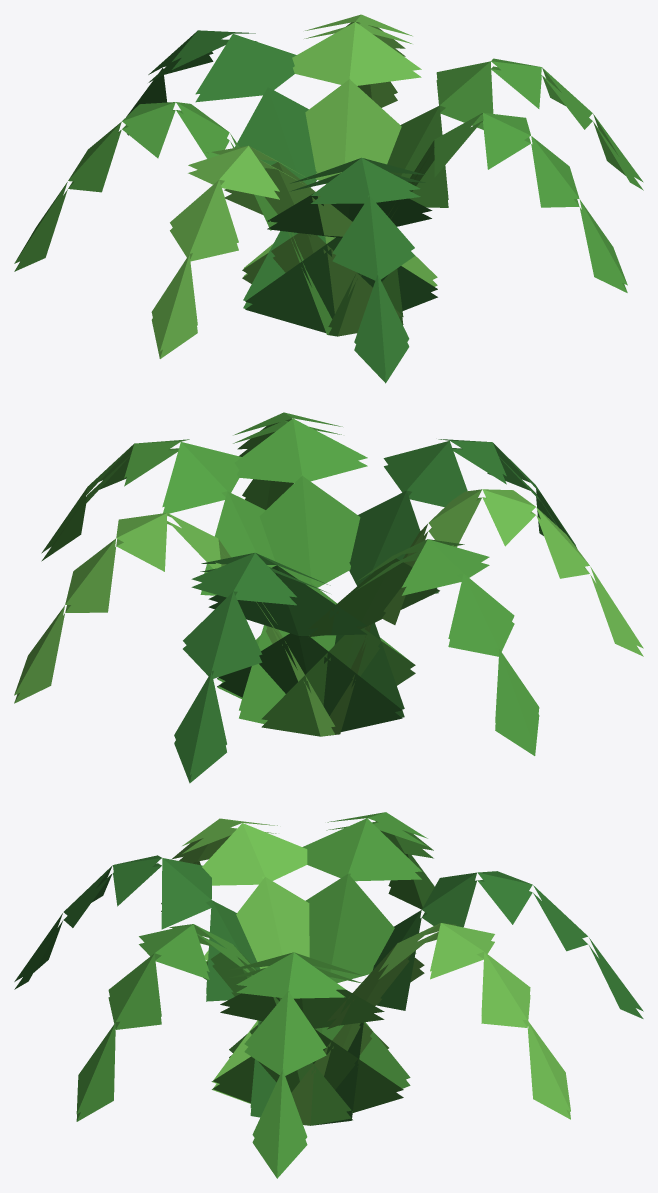
The model's file is fern.glb.
The picture shows the model from 3 angles, top to bottom: view 1: azimuth 30°, elevation 25°; view 2: azimuth 150°, elevation 25°; view 3: azimuth 270°, elevation 25°; orthographic projection. The views are drawn at different scales.
Visible parts, largest first — view 1: fern; view 2: fern; view 3: fern.
Part boxes in pixels (bbox=[...]): fern: bbox=[14, 14, 643, 383]; fern: bbox=[14, 412, 643, 783]; fern: bbox=[14, 812, 643, 1178].
Size of the model in its own units: 1.47 by 0.6217 by 1.46.
